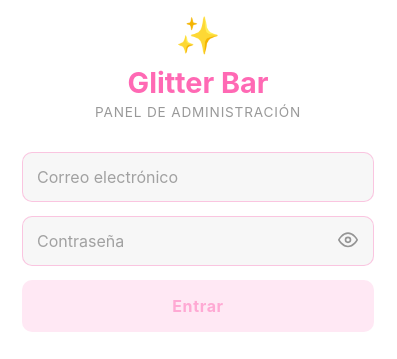
it: LoginPage › enables submit button when both fields are filled
This screenshot has width=397, height=359.
In the field with placeholder "Correo electrónico": (198, 176) [22, 152, 374, 202], type "admin@test.com"
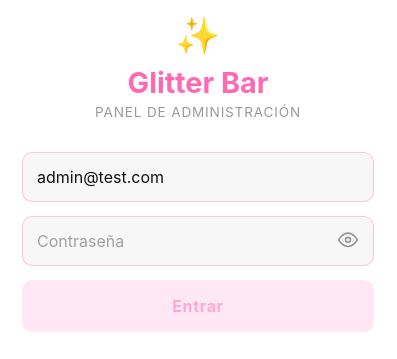
In the password field with placeholder "Contraseña": (198, 240) [22, 216, 374, 266], type "password123"
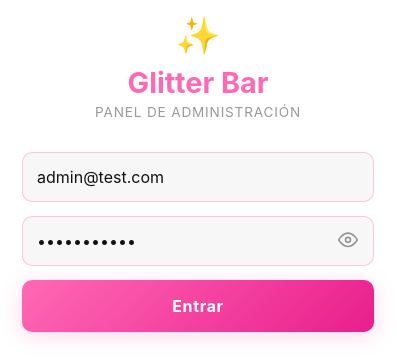
expect the button "Entrar" is enabled: met, box [22, 280, 374, 332]
